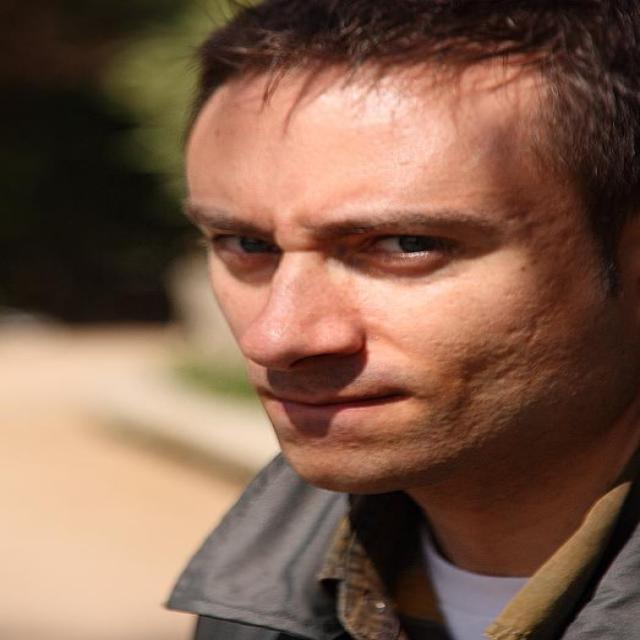no-glass: (198, 234, 436, 272)
